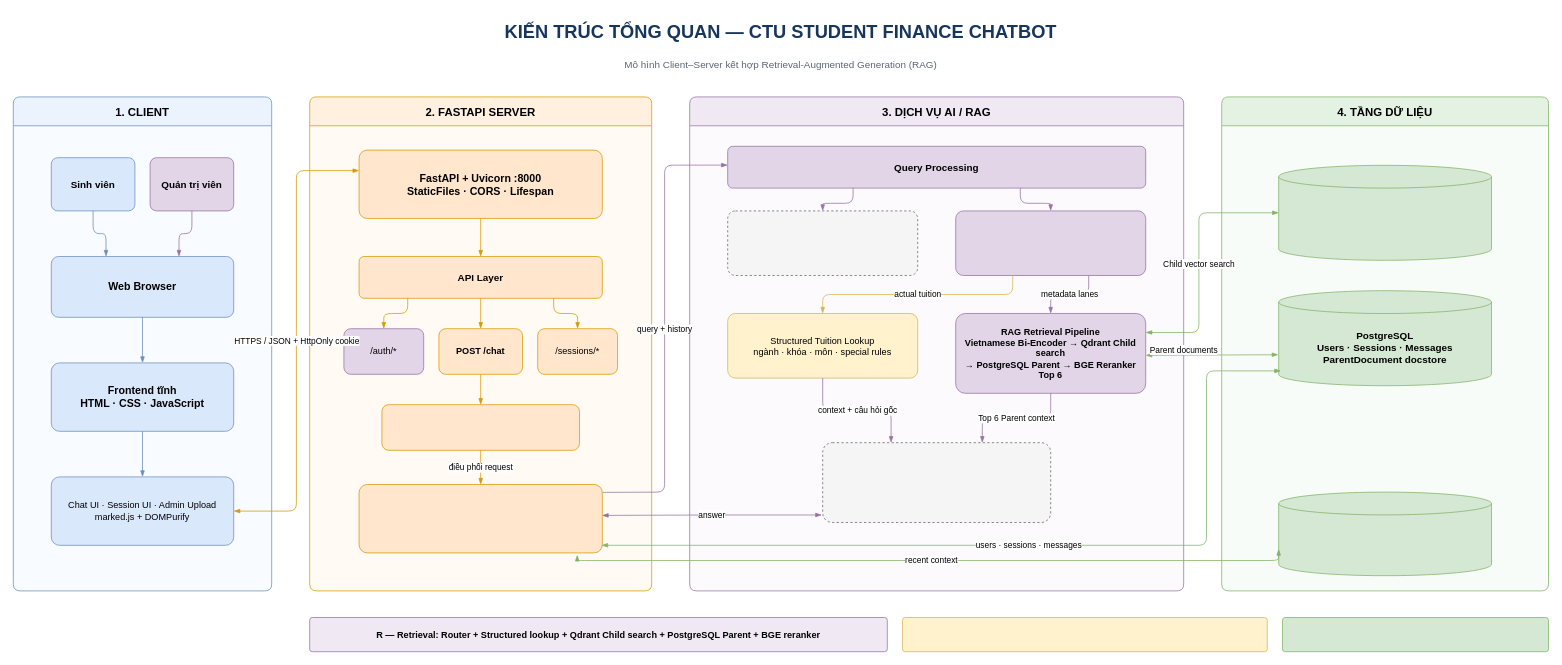
Some shapes in this 1562 by 665 pixel diagram are drawn without their labels. The shapes that lost their labels are listed below. From the top down, each one's centre as x and y in pixels, then its label:
[1385,212]: Qdrant Child vectors + metadata HNSW / cosine search
[822,243]: Gemini Query Rewriter chỉ làm rõ follow-up mơ hồ
[1050,243]: Deterministic Intent Router domain · content_kind · fee_kind · year
[480,427]: POST /document/upload
[936,482]: Gemini Main LLM + Tools
[480,518]: Application Orchestrator xác thực · hội thoại · upload · lưu lịch sử
[1385,533]: Redis Recent chat history
[1084,634]: A — Augmentation: Ghép context truy xuất với câu hỏi gốc và chỉ dẫn định tuyến
[1415,634]: G — Generation: Gemini sinh câu trả lời và gọi tool nghiệp vụ khi cần
